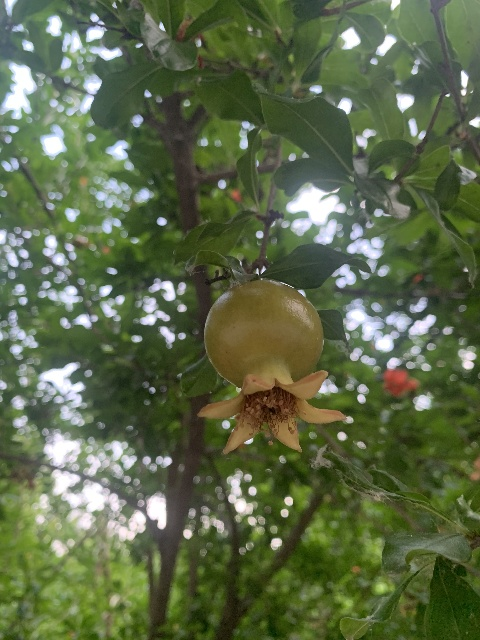flower: (382, 368, 417, 396)
mid-growth: (196, 279, 347, 452)
